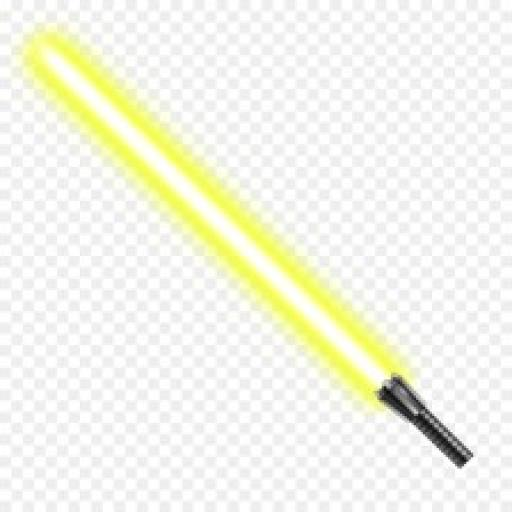lightsaber: (31, 38, 470, 467)
